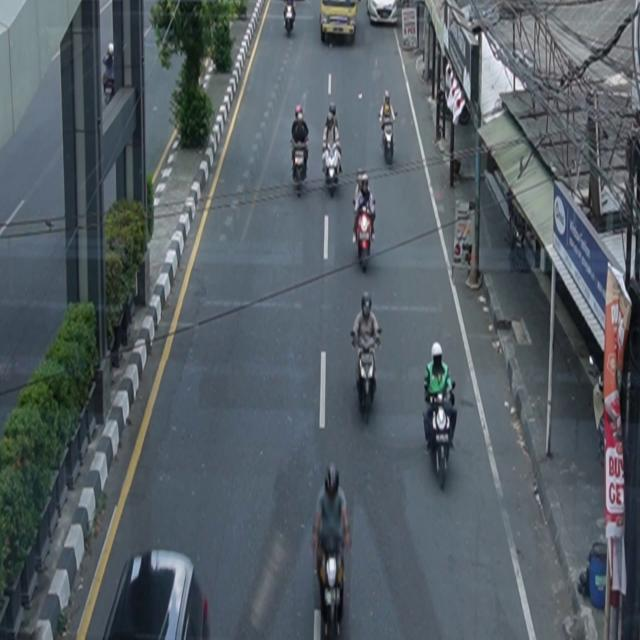car: (103, 549, 211, 640), (320, 1, 358, 45)
